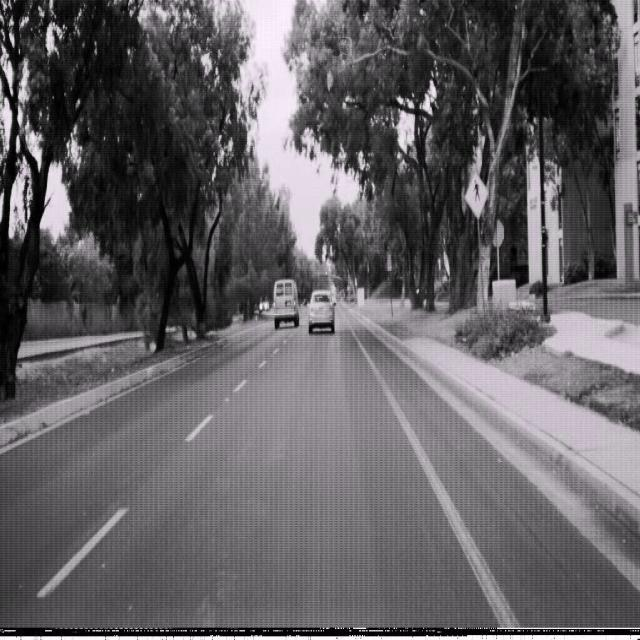pedestrianCrossing: (464, 170, 488, 220)
